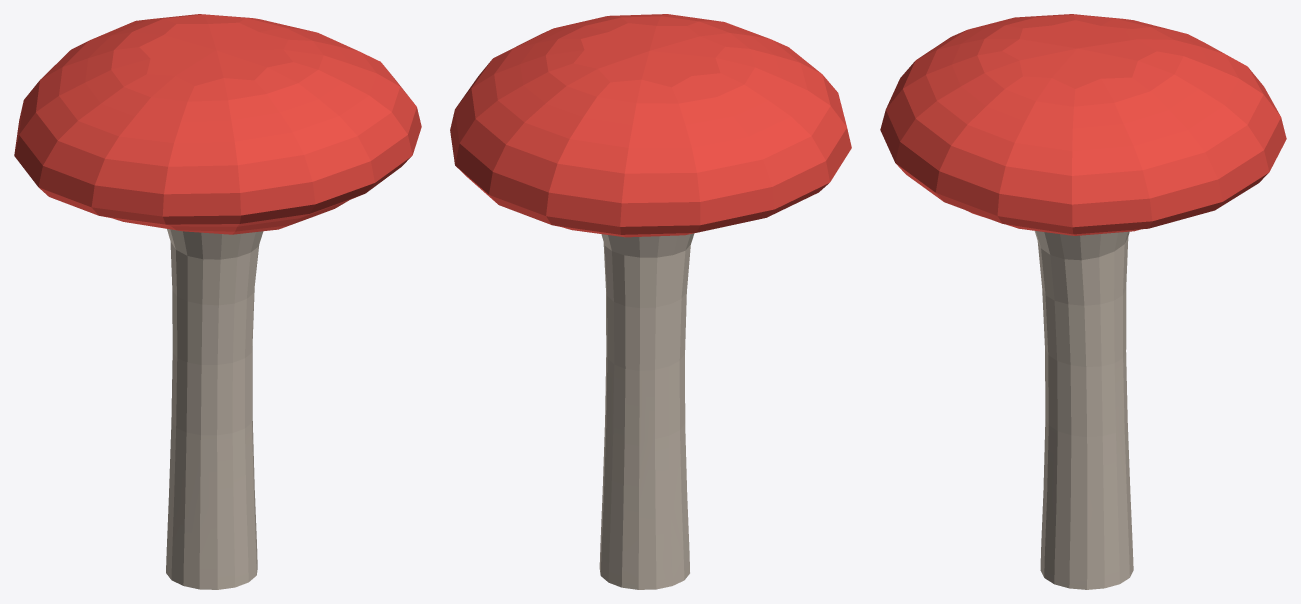
Rendered from MushroomRed.fbx.
3 views of the same model, side by side, from view 1: azimuth 30°, elevation 25°; view 2: azimuth 150°, elevation 25°; view 3: azimuth 270°, elevation 25° (orthographic).
Visible parts, largest first — view 1: MushroomRed; view 2: MushroomRed; view 3: MushroomRed.
Part boxes in pixels (left/top/right/bottom): MushroomRed: left=14, top=14, right=421, bottom=589; MushroomRed: left=450, top=14, right=851, bottom=589; MushroomRed: left=880, top=14, right=1286, bottom=589.
Size of the model in its own units: 43.62 by 60.44 by 42.66.
